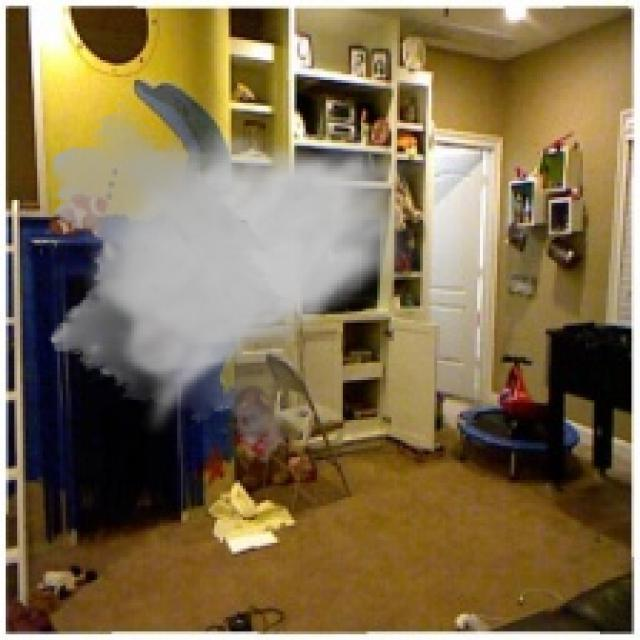Smoke: (40, 100, 423, 466)
